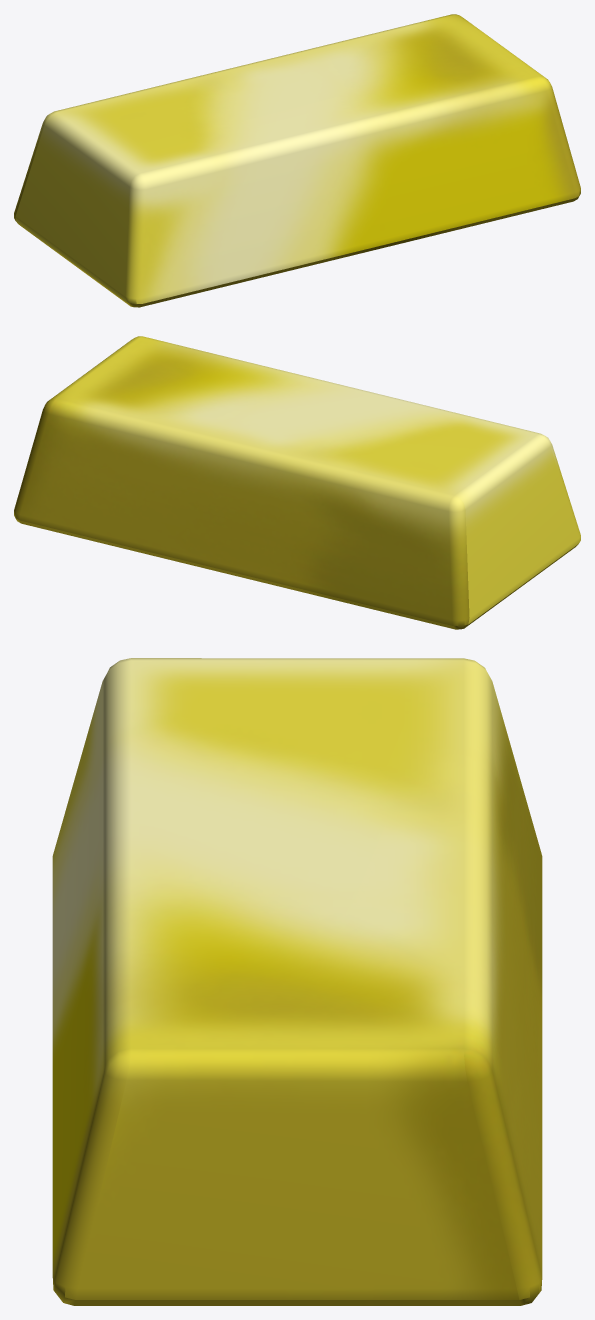
File: gold.fbx
3 views of the same model, one above another, from view 1: azimuth 30°, elevation 25°; view 2: azimuth 150°, elevation 25°; view 3: azimuth 270°, elevation 25° (orthographic). The views are drawn at different scales.
Visible parts, largest first — view 1: pCube1; view 2: pCube1; view 3: pCube1.
Part boxes in pixels (x1,y1,x2,y2): pCube1: (14, 14, 580, 307); pCube1: (14, 336, 580, 629); pCube1: (52, 658, 542, 1305).
Bounding box in the file's own units: 8.93 × 2.23 × 4.17.
Materials: 1 (1 with a texture image).
